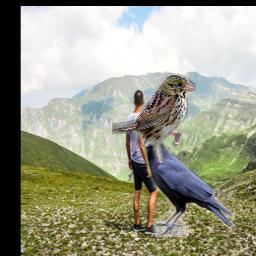Crow: (143, 133, 235, 237)
Sparrow: (111, 73, 195, 163)
